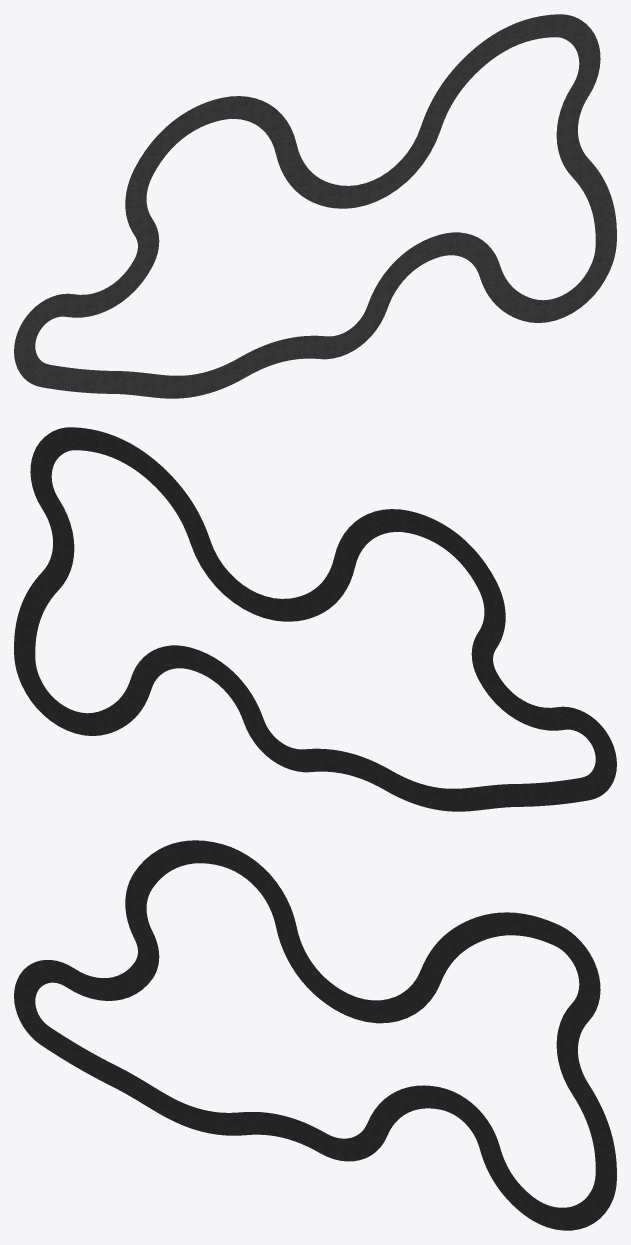
File: track6_road.obj
3 renders of one model, top to bottom at view 1: azimuth 30°, elevation 25°; view 2: azimuth 150°, elevation 25°; view 3: azimuth 330°, elevation 25°, orthographic.
Visible parts, largest first — view 1: road_0_curve_.003; view 2: road_0_curve_.003; view 3: road_0_curve_.003.
Part boxes in pixels (x1=…): road_0_curve_.003: x1=14, y1=14, x2=616, y2=398; road_0_curve_.003: x1=14, y1=427, x2=616, y2=811; road_0_curve_.003: x1=14, y1=840, x2=616, y2=1230.
Bounding box in the file's own units: 46.33 × 22.64 × 0.
1 material, 1 textured.
